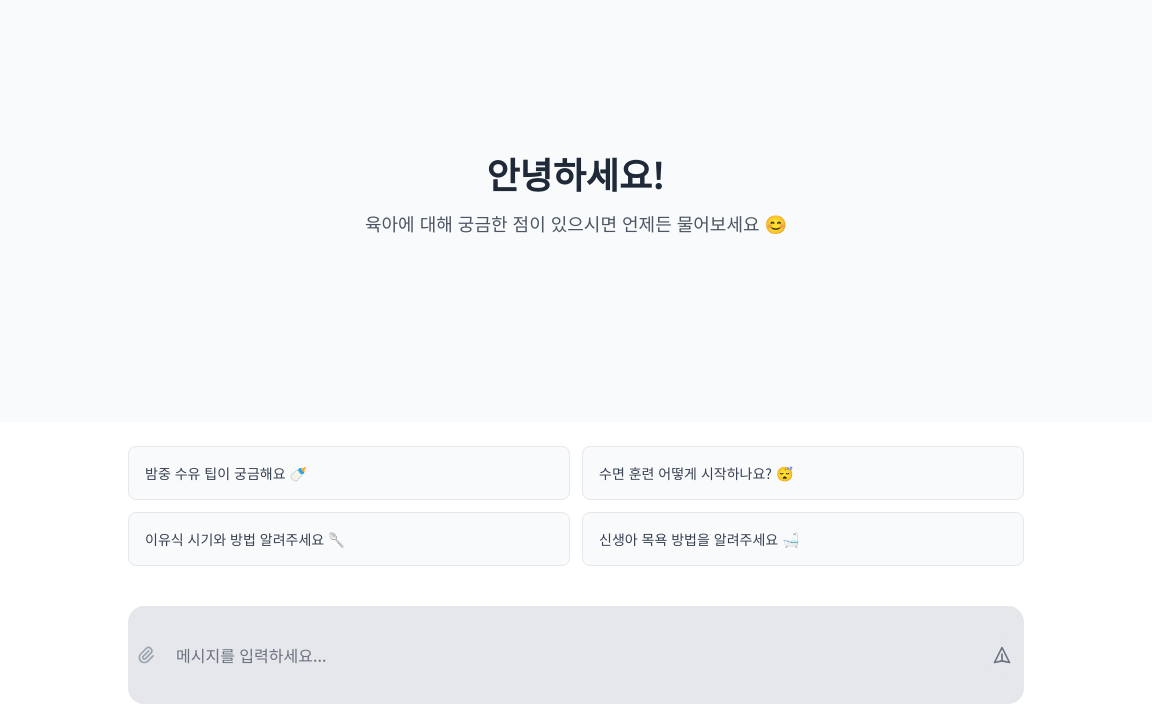
Scenario: ChatLayout 컴포넌트 › API 오류 시 에러 메시지가 표시되어야 한다
Step 1. Type "테스트" into the text box with placeholder "메시지를 입력하세요..." → (574, 655), box top-left (164, 639), bottom-right (984, 671)
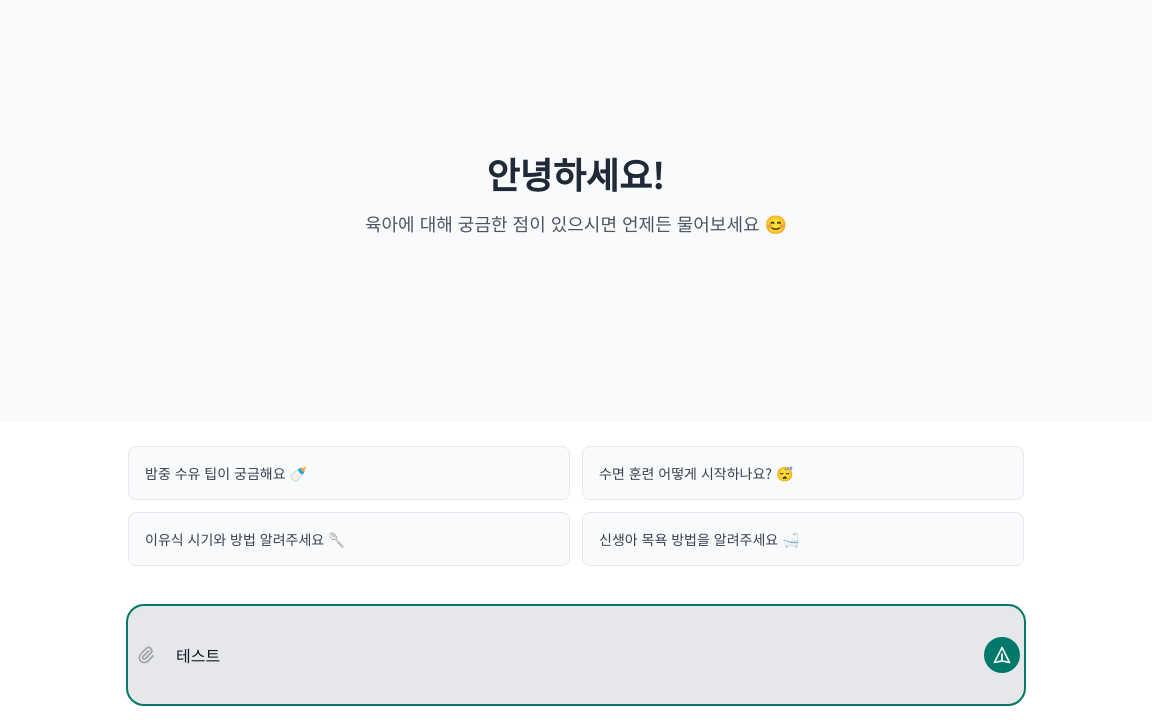
Step 2. Click the button named "메시지 전송" → (1002, 655), box top-left (984, 637), bottom-right (1020, 673)
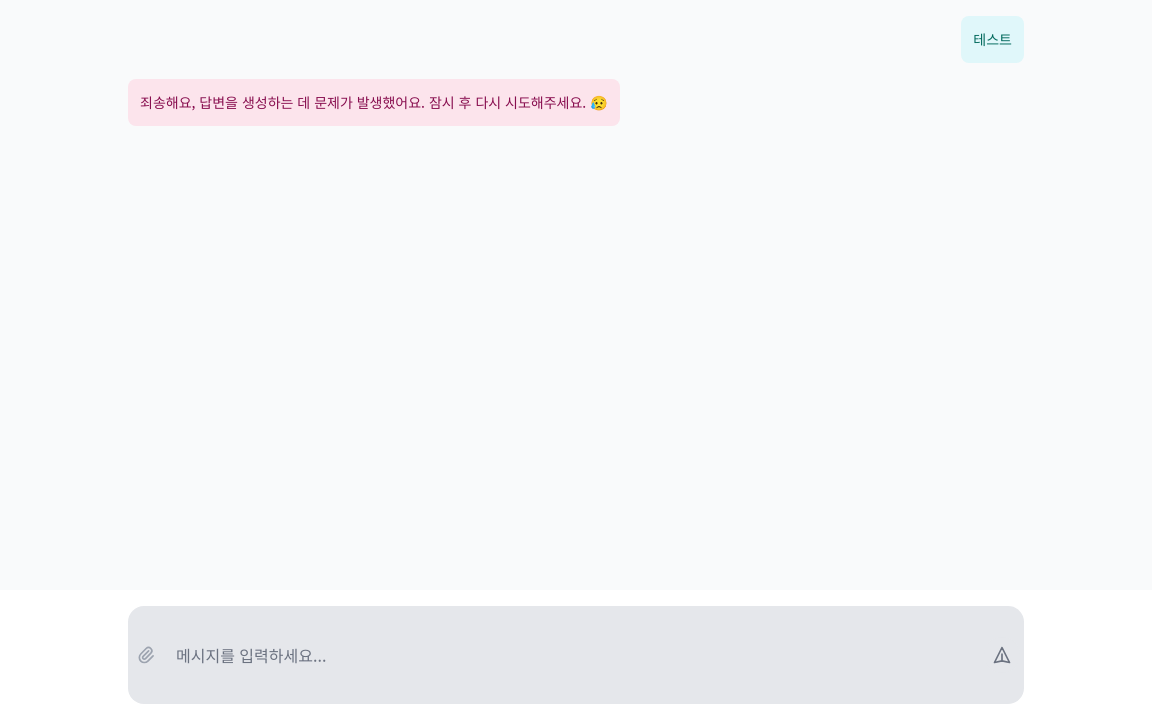
expect the text "죄송해요, 답변을 생성하는 데 문제가 발생했어요. 잠시 후 다시 시도해주세요. 😥" is shown: met, box top-left (128, 79), bottom-right (620, 126)
